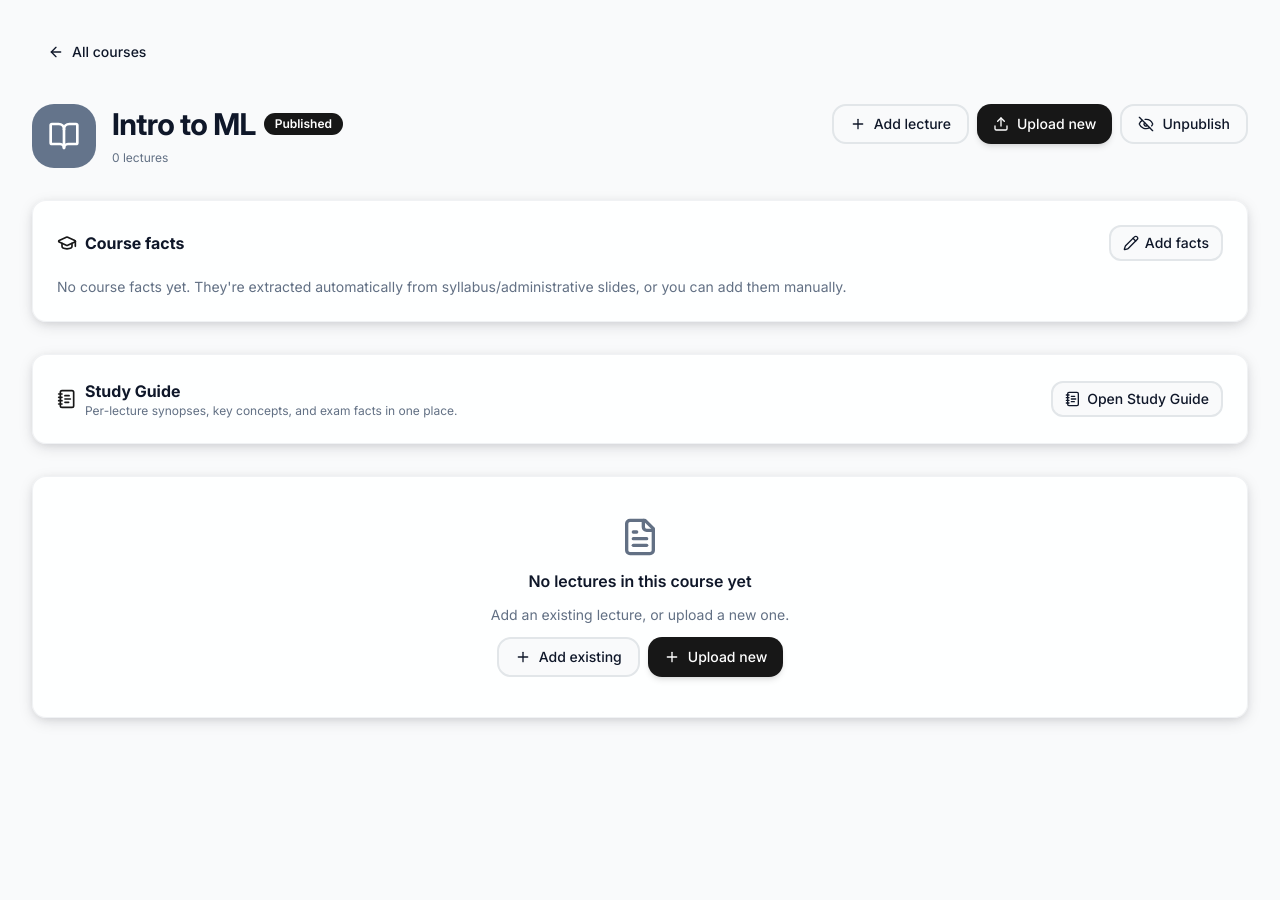
Test: ProfessorCourseDetail — Add lecture picker failure › shows an error row with retry instead of the false 'all already added' message
This screenshot has width=1280, height=900.
Click the button "Add lecture" at (900, 124), box top-left (832, 104), bottom-right (969, 144)
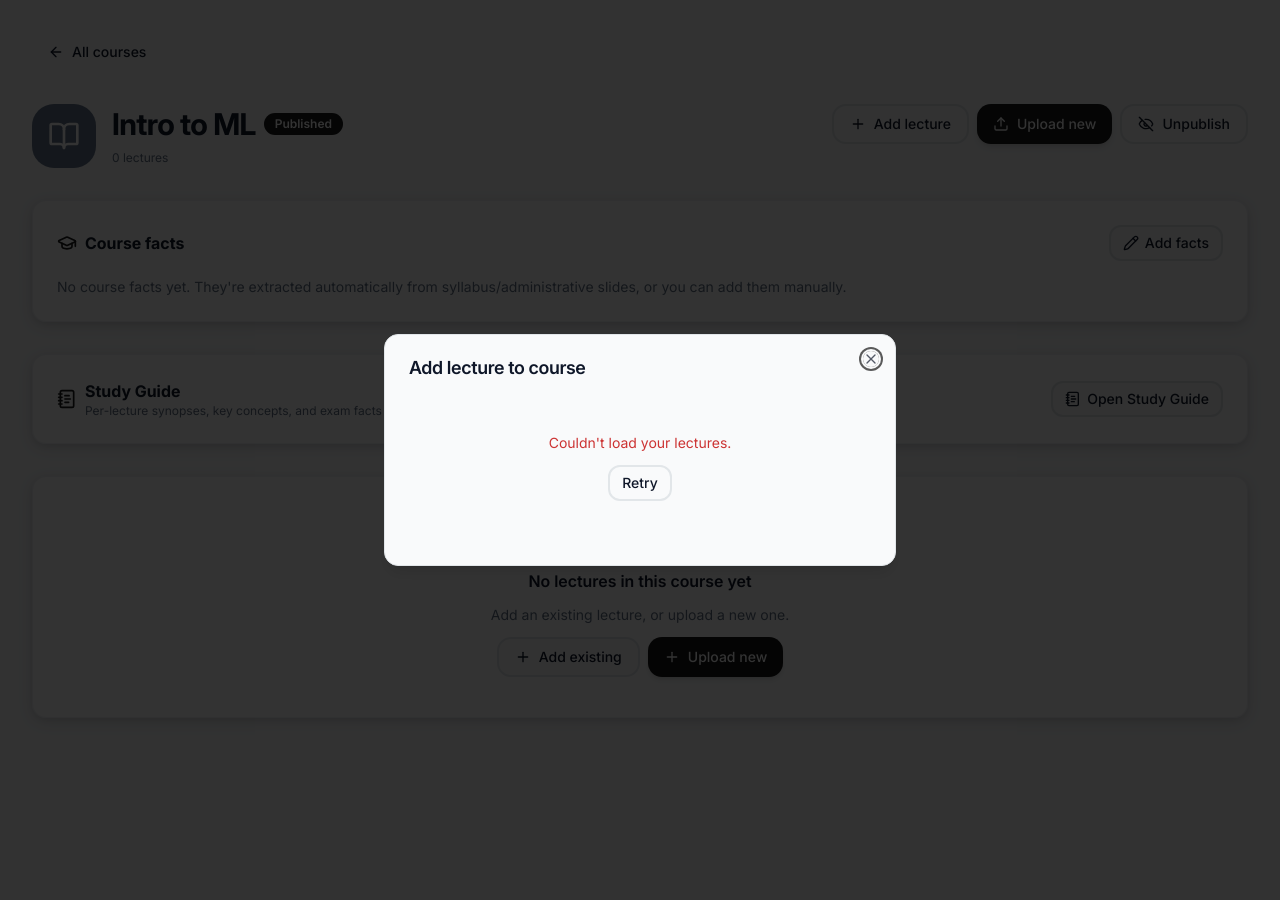
Now the element with test id "picker-error" is shown, box top-left (549, 434), bottom-right (731, 501)
